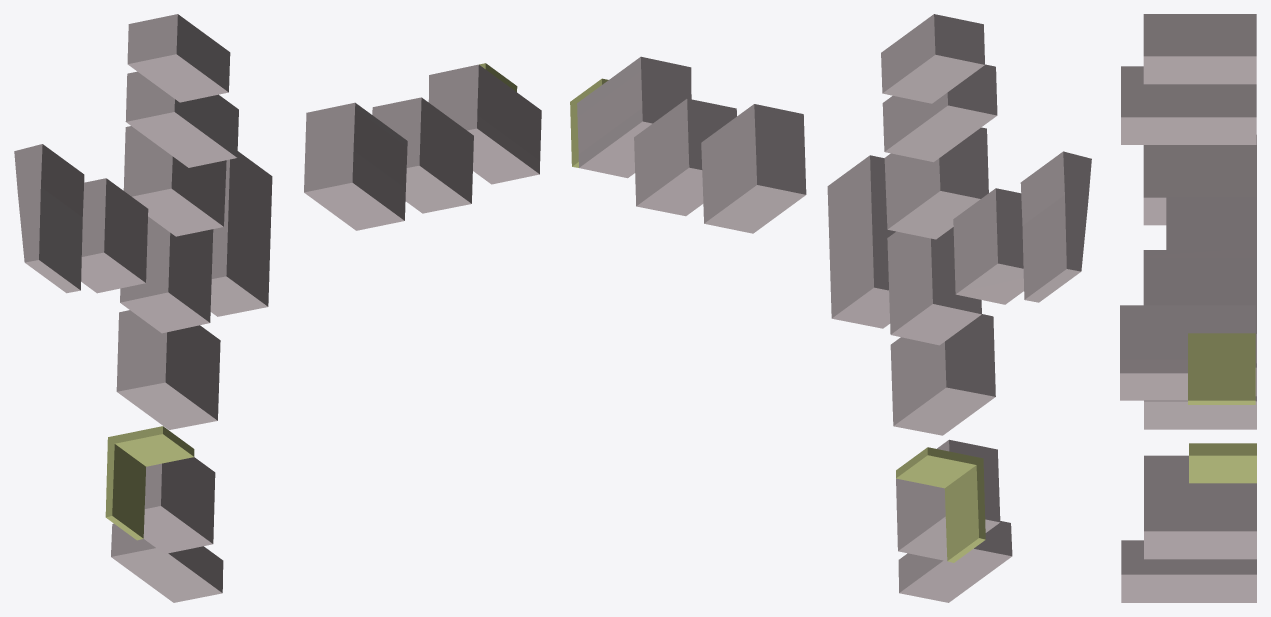
The picture shows the model from 3 angles, left to right: view 1: azimuth 30°, elevation 25°; view 2: azimuth 150°, elevation 25°; view 3: azimuth 270°, elevation 25°; orthographic projection. The views are drawn at different scales.
Visible parts, largest first — view 1: 0_2_1_3_0_0_3_1; view 2: 0_2_1_3_0_0_3_1; view 3: 0_2_1_3_0_0_3_1.
Part boxes in pixels (x1,y1,x2,y2): 0_2_1_3_0_0_3_1: (14, 14, 541, 602); 0_2_1_3_0_0_3_1: (570, 14, 1091, 602); 0_2_1_3_0_0_3_1: (1120, 14, 1256, 602).
Bounding box in the file's own units: 78.08 × 83.85 × 18.17.
